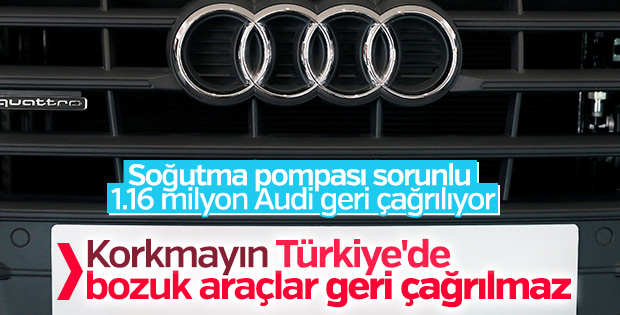audi: (156, 2, 473, 108)
